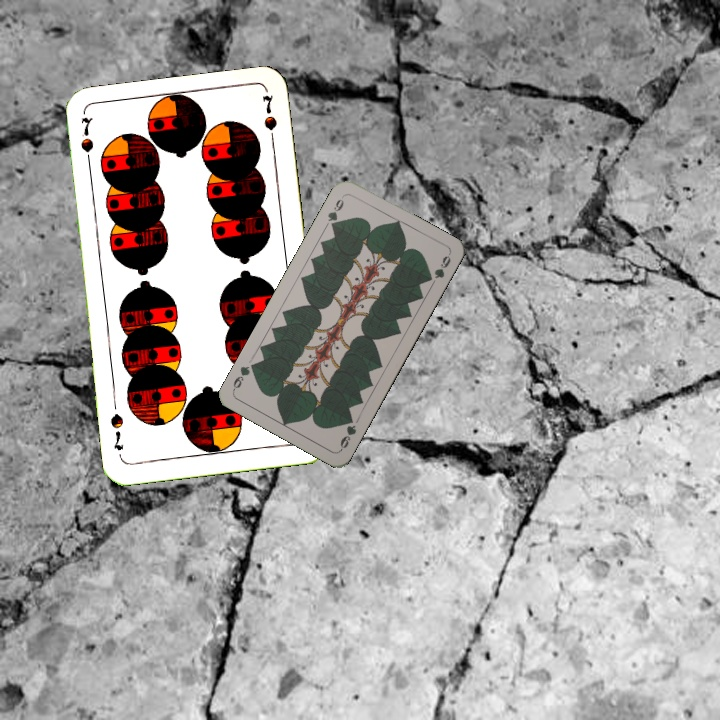G9: (321, 192, 347, 232), (336, 412, 359, 453)
S7: (76, 113, 96, 171)
